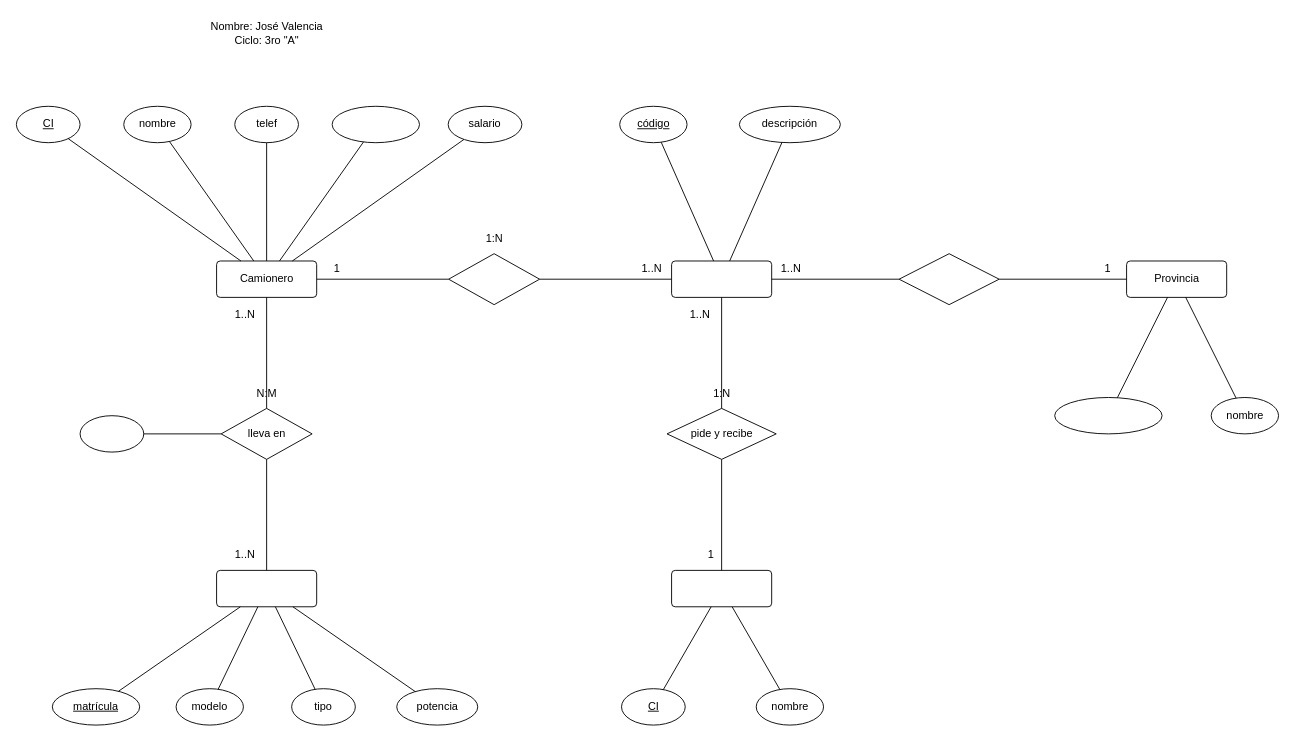
The diagram is 1294 pixels wide and 742 high, and some of its shapes have lost their labels. The box of each missing label's shape, as (x1, y1, x2, y2) in pixels:
Camión: (216, 569, 317, 607)
código prov.: (1054, 397, 1162, 434)
Destinatario: (671, 569, 772, 607)
dirección: (331, 105, 420, 143)
fecha: (79, 415, 144, 452)
llega a una: (898, 253, 999, 305)
Paquete: (671, 260, 772, 297)
transporta: (448, 253, 540, 305)
